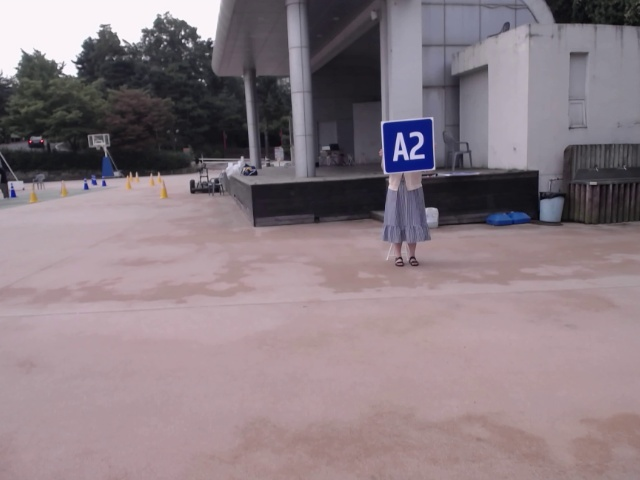delivery_a2: (381, 117, 436, 174)
